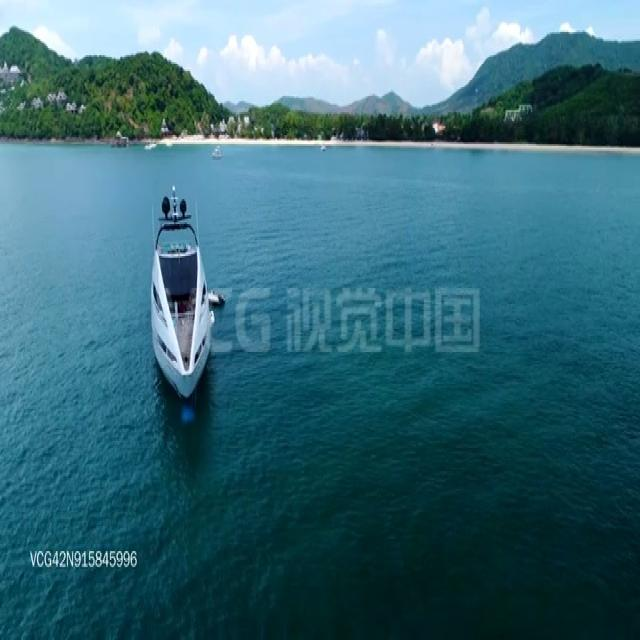houseboat: (206, 286, 227, 302), (208, 142, 222, 159)
passenger ship: (148, 186, 214, 391)
